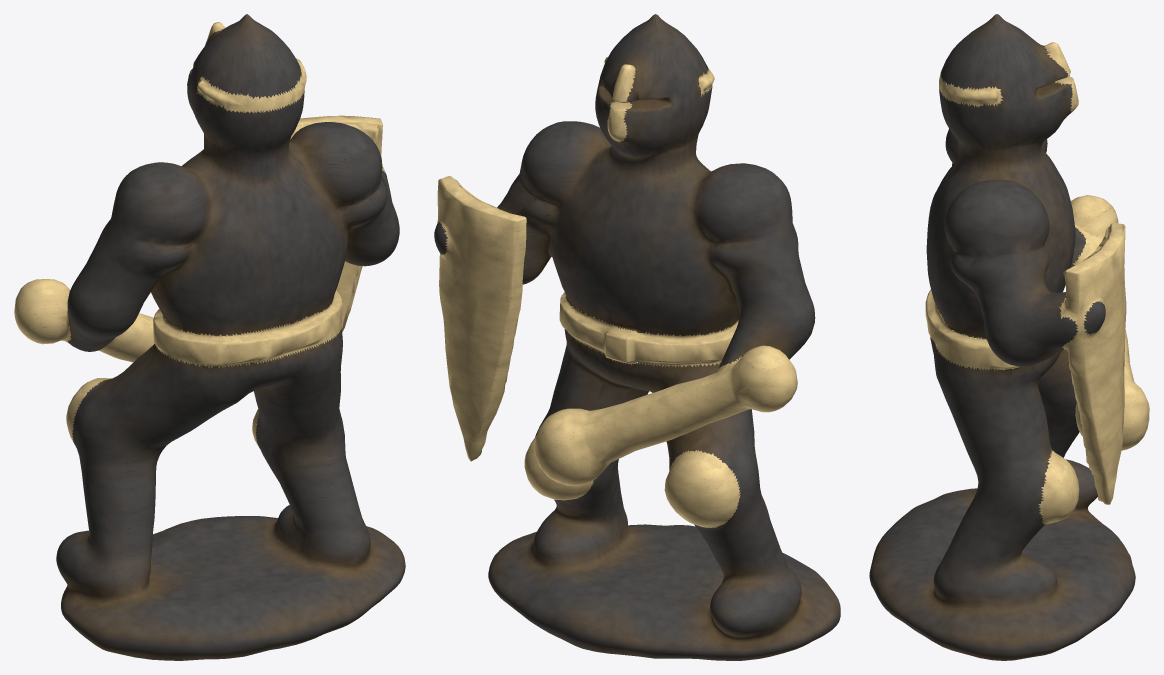
File: pawn-black-hd.glb
3 renders of one model, left to right at view 1: azimuth 30°, elevation 25°; view 2: azimuth 150°, elevation 25°; view 3: azimuth 270°, elevation 25°, orthographic.
Visible parts, largest first — view 1: Argent Reliquary – Black Pawn; view 2: Argent Reliquary – Black Pawn; view 3: Argent Reliquary – Black Pawn.
Boxes of the visible parts, x1=… form: Argent Reliquary – Black Pawn: x1=14, y1=14, x2=405, y2=660; Argent Reliquary – Black Pawn: x1=434, y1=14, x2=840, y2=660; Argent Reliquary – Black Pawn: x1=869, y1=14, x2=1149, y2=660.
Bounding box in the file's own units: 0.6082 × 0.96 × 0.4165.
2 materials, 2 textured.
